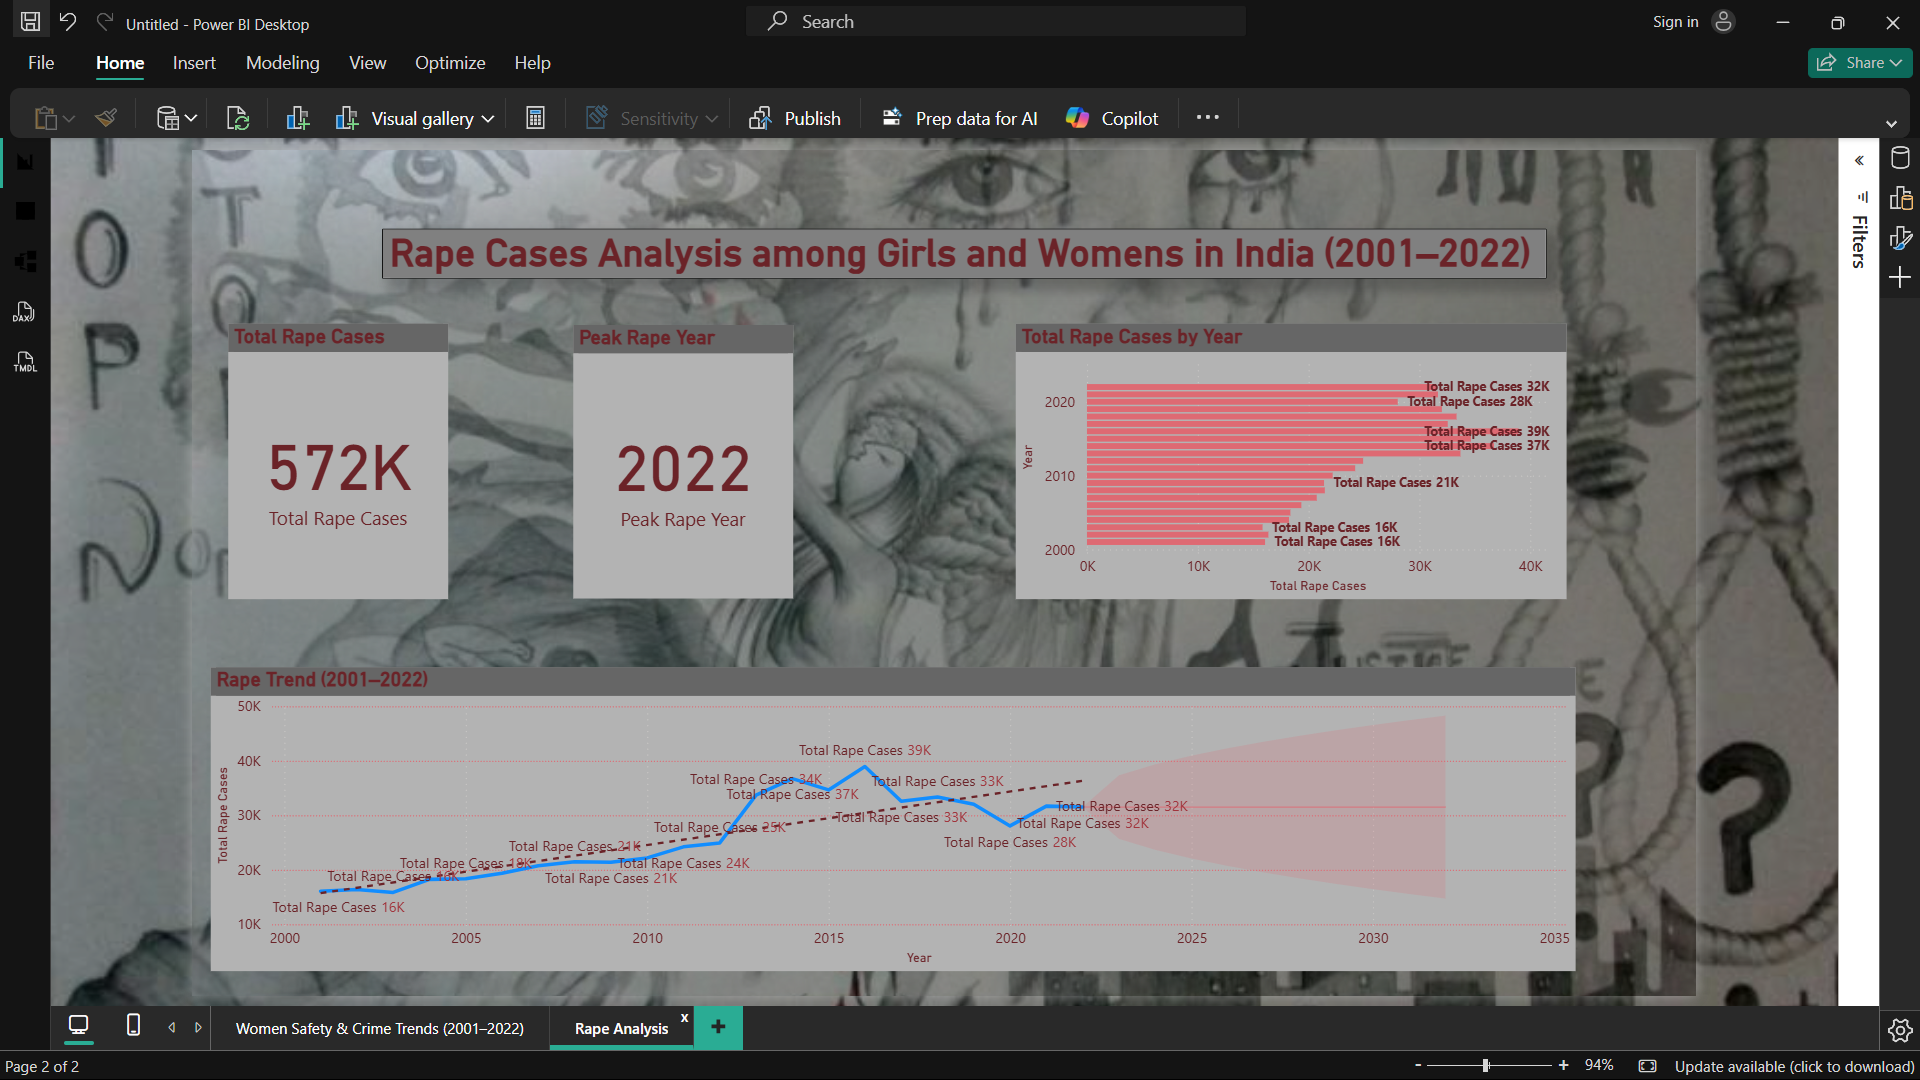

What the dashboard file says about the page in this screenshot:
{"tool":"powerbi","page":{"name":"Rape Analysis","canvas":[1280,720],"ordinal":1},"visuals":[{"type":"textbox","title":"Rape Cases Analysis among Girls and Womens in India (2001–2022)","box":[161.7,67,991.5,42.6],"z":0},{"type":"card","title":"Total Rape Cases","fields":{"Values":["Crime against Women (2001-2022).Total Rape Cases"]},"box":[30.9,147.9,187.2,234],"z":1},{"type":"card","title":"Peak Rape Year","fields":{"Values":["Crime against Women (2001-2022).Peak Rape Year"]},"box":[324.5,148.9,187.2,233],"z":2},{"type":"lineChart","title":"Rape Trend (2001–2022)","fields":{"Category":["Crime against Women (2001-2022).Year"],"Y":["Crime against Women (2001-2022).Total Rape Cases"]},"box":[16,440.4,1161.7,258.5],"z":3},{"type":"clusteredBarChart","fields":{"Category":["Crime against Women (2001-2022).Year"],"Y":["Crime against Women (2001-2022).Total Rape Cases"]},"box":[701.1,147.9,469.1,234],"z":4}]}

Visuals, with their boxes on the page's 1280x720 design canvas (x1, y1, x2, y2). These are canvas units, not pixel positions in the 1920x1080 screenshot, which may show the page scaled, cropped or inside an application window:
"Rape Cases Analysis among Girls and Womens in India (2001–2022)" textbox: 162, 67, 1153, 110
"Total Rape Cases" card: 31, 148, 218, 382
"Peak Rape Year" card: 324, 149, 512, 382
"Rape Trend (2001–2022)" lineChart: 16, 440, 1178, 699
clusteredBarChart - Crime against Women (2001-2022).Year x Crime against Women (2001-2022).Total Rape Cases: 701, 148, 1170, 382
